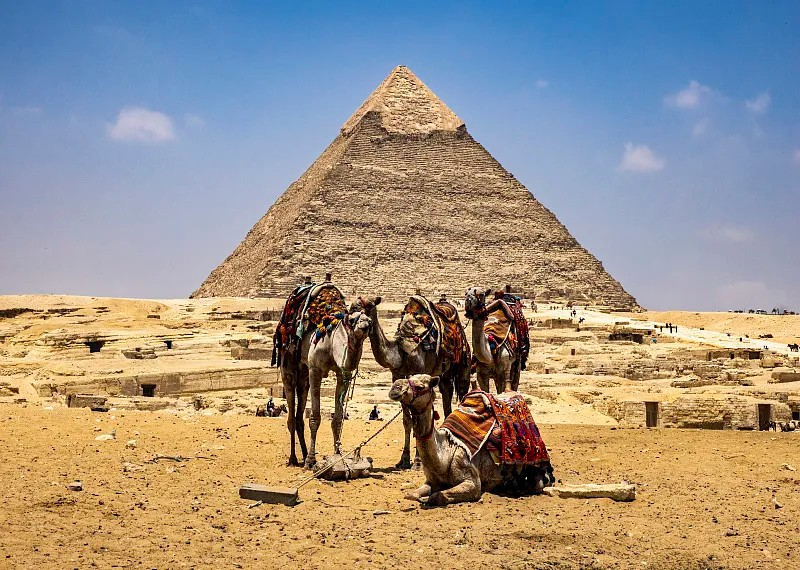Pyramid: (189, 63, 647, 312)
